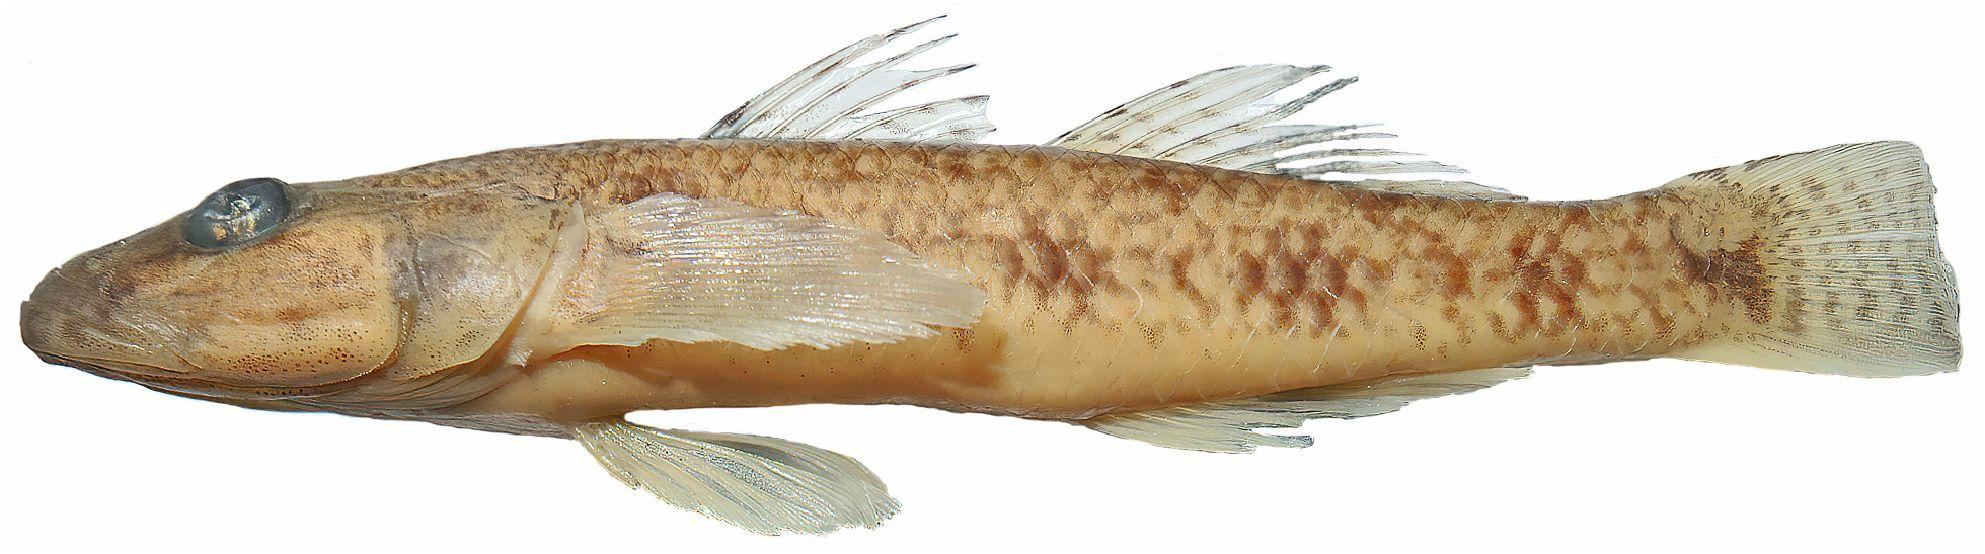Goby: (14, 0, 1985, 554)
